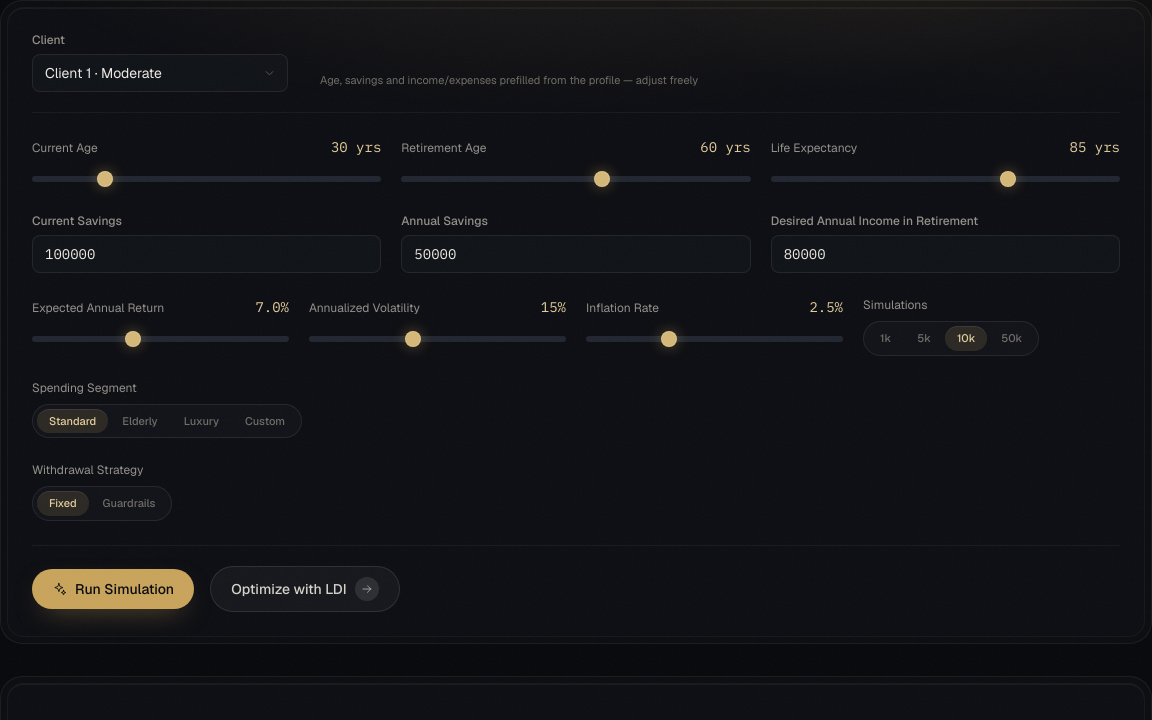
RetirementWorkspace results › surfaces API errors as localized messages
Click the button "Run Simulation". click: (113, 588)
box: x1=32 y1=568 x2=194 y2=608
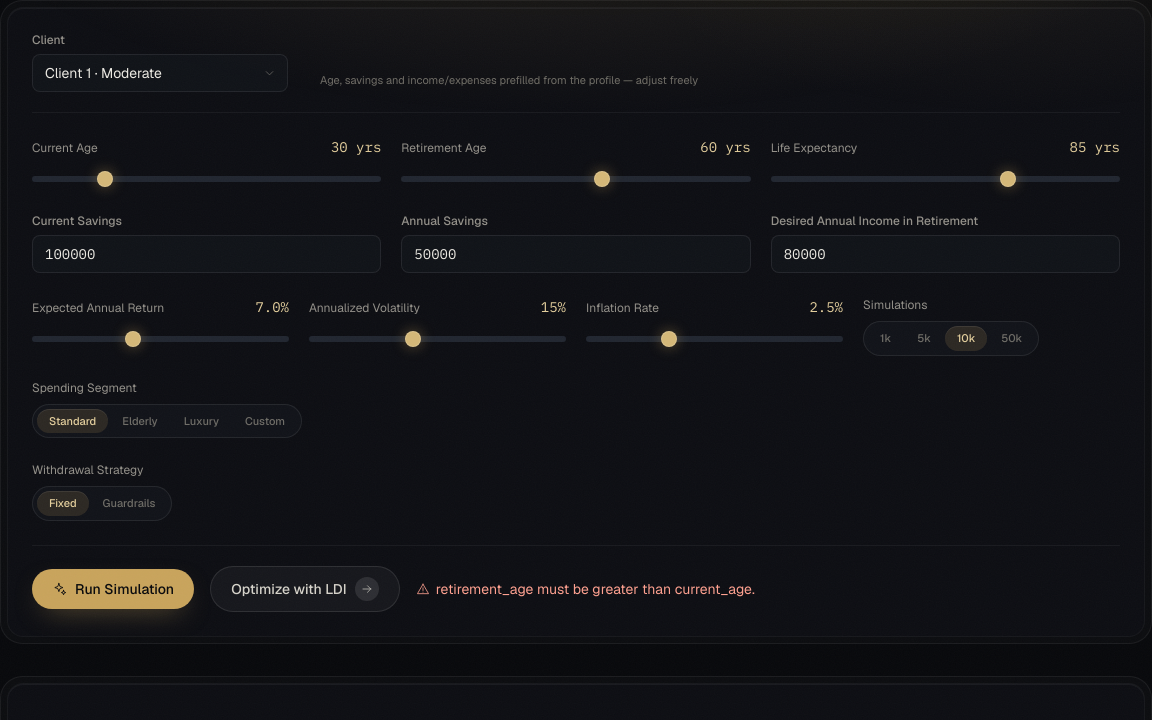
Check: the text "retirement_age must be greater than current_age." is shown, box x1=416 y1=578 x2=755 y2=598
